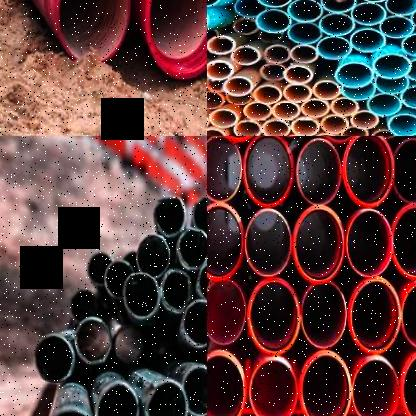pipe: (145, 0, 207, 80), (58, 0, 130, 64), (292, 205, 345, 285), (247, 277, 300, 354), (348, 278, 400, 352), (343, 136, 394, 208), (243, 136, 293, 208), (299, 352, 351, 416), (346, 209, 393, 278), (245, 209, 291, 277), (301, 281, 347, 348), (296, 139, 342, 205), (207, 203, 244, 282), (249, 359, 297, 416), (353, 359, 400, 416), (207, 279, 246, 344), (207, 354, 245, 416), (207, 136, 242, 201), (34, 335, 72, 383), (391, 204, 416, 276), (74, 319, 112, 365), (122, 273, 159, 319), (392, 138, 416, 202), (136, 235, 171, 278), (146, 381, 188, 416), (160, 269, 192, 314), (97, 383, 139, 416), (154, 196, 186, 236), (178, 228, 207, 270), (104, 260, 134, 300), (183, 300, 207, 349), (183, 365, 206, 416), (372, 54, 413, 79), (66, 290, 98, 322), (335, 62, 372, 88), (401, 282, 416, 346), (88, 251, 114, 287), (402, 350, 416, 416), (256, 9, 292, 33), (288, 0, 324, 22), (350, 3, 386, 25), (350, 30, 386, 52), (317, 37, 352, 59), (367, 94, 402, 116), (288, 23, 323, 44), (380, 17, 414, 38), (374, 76, 410, 94), (191, 196, 207, 236), (387, 114, 416, 136), (342, 82, 376, 100), (230, 46, 262, 65), (282, 65, 314, 84), (223, 77, 252, 97), (330, 97, 360, 116), (320, 115, 350, 134), (290, 117, 320, 136), (207, 36, 236, 55), (301, 99, 330, 118), (233, 0, 267, 16), (264, 44, 291, 64), (350, 111, 380, 129), (283, 84, 312, 102), (207, 60, 233, 80), (273, 101, 300, 120), (290, 45, 318, 63), (312, 81, 340, 99), (254, 86, 282, 104), (209, 109, 237, 127), (243, 103, 272, 120), (232, 120, 262, 136), (262, 119, 290, 136), (260, 63, 286, 81), (385, 0, 416, 15), (320, 0, 356, 12), (233, 18, 258, 35), (198, 259, 207, 306), (400, 85, 416, 108), (400, 34, 416, 56), (225, 93, 253, 105), (259, 31, 283, 43), (42, 411, 96, 416), (207, 92, 222, 109), (256, 0, 292, 7), (340, 127, 368, 136), (207, 44, 220, 62), (370, 129, 398, 136), (408, 59, 416, 82), (207, 29, 219, 43), (207, 129, 227, 136), (410, 7, 416, 30)
